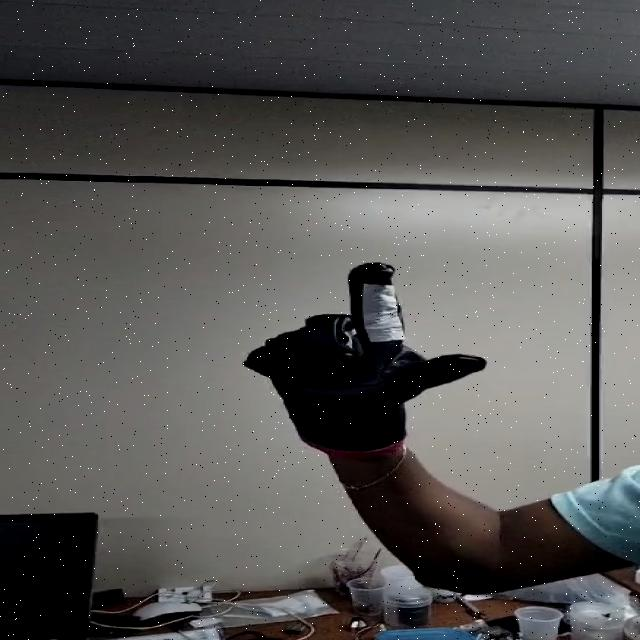Gloves: (242, 263, 484, 457)
